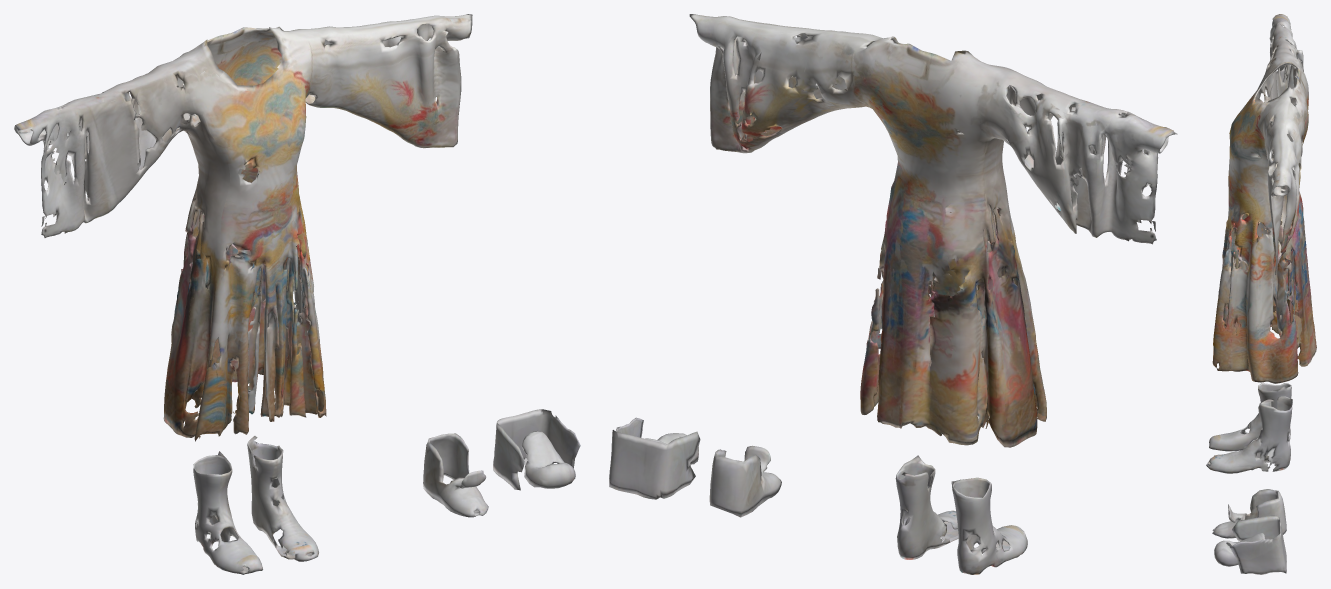
3 views of the same model, side by side, from view 1: azimuth 30°, elevation 25°; view 2: azimuth 150°, elevation 25°; view 3: azimuth 270°, elevation 25° (orthographic). The views are drawn at different scales.
Visible parts, largest first — view 1: Mesh_0; view 2: Mesh_0; view 3: Mesh_0.
Part boxes in pixels (x1,y1,x2,y2): Mesh_0: (14, 14, 580, 574); Mesh_0: (609, 14, 1177, 574); Mesh_0: (1206, 14, 1316, 574).
Bounding box in the file's own units: 2 × 1.78 × 0.4624.
Materials: 1 (1 with a texture image).
